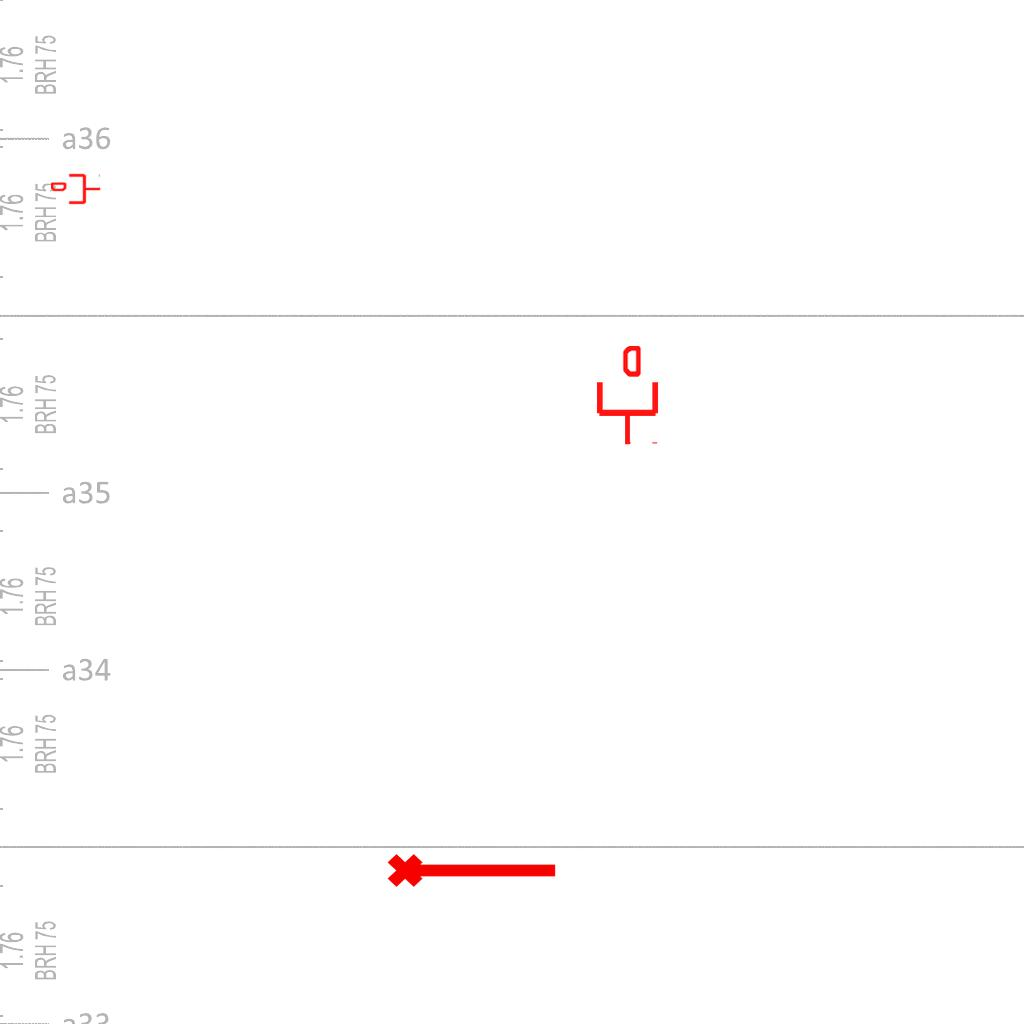ASR_Ansaugoeffnung: (385, 845, 561, 891)
Datenanschluss_einfach: (593, 346, 662, 446), (51, 172, 101, 206)
